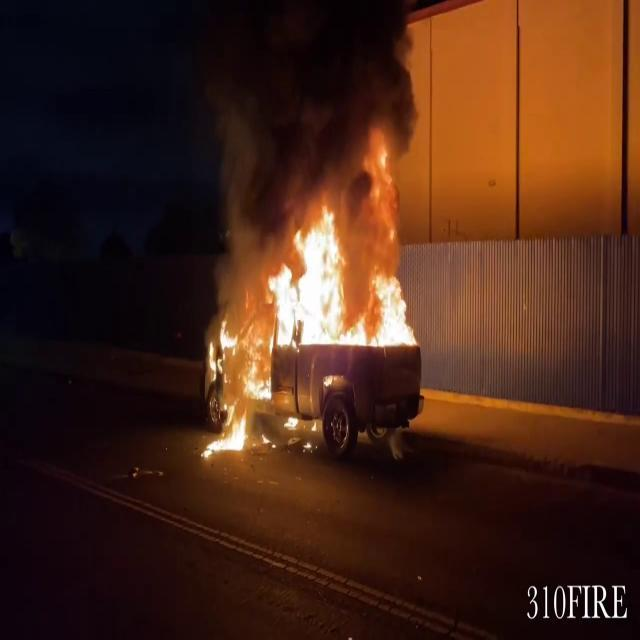Fire: (206, 190, 420, 450)
Smoke: (182, 0, 431, 226)
